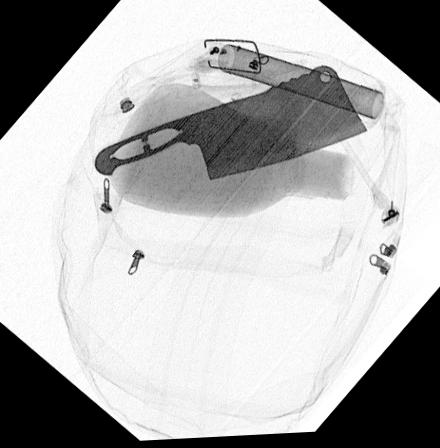Knife: (93, 68, 368, 182)
